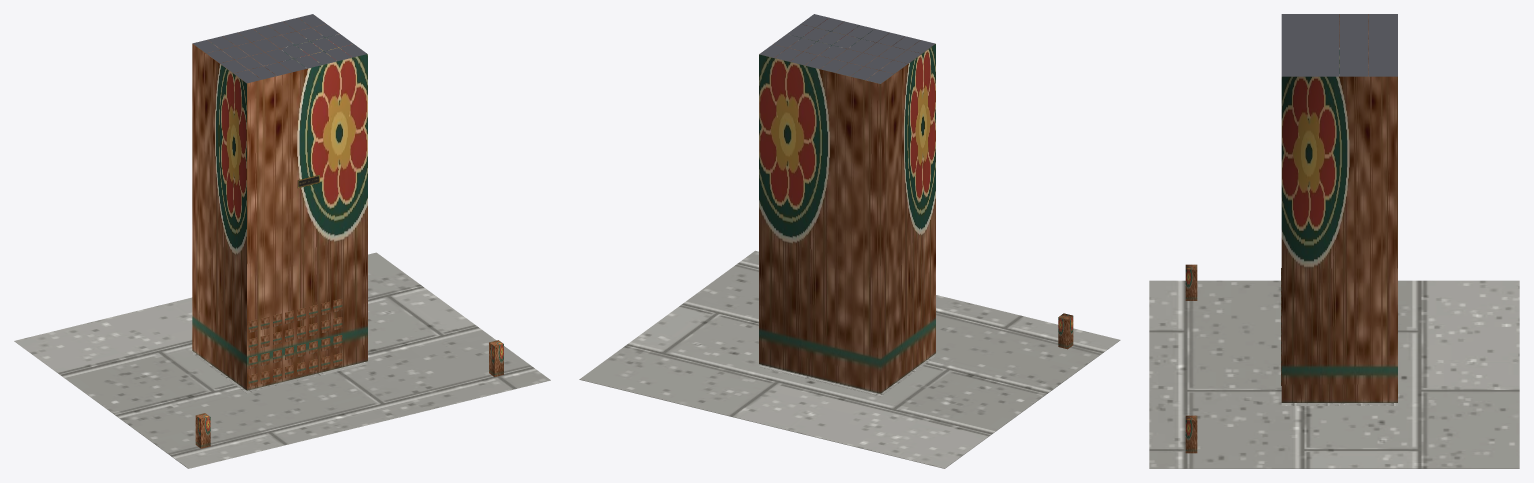
3 renders of one model, left to right at view 1: azimuth 30°, elevation 25°; view 2: azimuth 150°, elevation 25°; view 3: azimuth 270°, elevation 25°, orthographic. The views are drawn at different scales.
Visible parts, largest first — view 1: 11680_01_06180_036_02_L2__body, 11680_01_06180_036_01_L2__base, 11680_01_06180_036_03_L2__roof, 11680_01_06180_036_05_L2__openings, 11680_01_06180_036_06_L2__green; view 2: 11680_01_06180_036_02_L2__body, 11680_01_06180_036_01_L2__base, 11680_01_06180_036_03_L2__roof; view 3: 11680_01_06180_036_01_L2__base, 11680_01_06180_036_02_L2__body, 11680_01_06180_036_03_L2__roof, 11680_01_06180_036_06_L2__green.
Part boxes in pixels (x1,y1,x2,y2): 11680_01_06180_036_02_L2__body: [192, 18, 367, 390]; 11680_01_06180_036_01_L2__base: [14, 252, 550, 468]; 11680_01_06180_036_03_L2__roof: [192, 14, 366, 83]; 11680_01_06180_036_05_L2__openings: [248, 299, 342, 386]; 11680_01_06180_036_06_L2__green: [195, 340, 503, 448]; 11680_01_06180_036_02_L2__body: [759, 18, 935, 393]; 11680_01_06180_036_01_L2__base: [579, 250, 1120, 468]; 11680_01_06180_036_03_L2__roof: [759, 14, 935, 83]; 11680_01_06180_036_01_L2__base: [1149, 280, 1519, 468]; 11680_01_06180_036_02_L2__body: [1281, 14, 1397, 402]; 11680_01_06180_036_03_L2__roof: [1281, 14, 1397, 76]; 11680_01_06180_036_06_L2__green: [1185, 264, 1197, 453].
Size of the model in its own units: 84 by 68.72 by 70.
5 materials, 5 textured.
